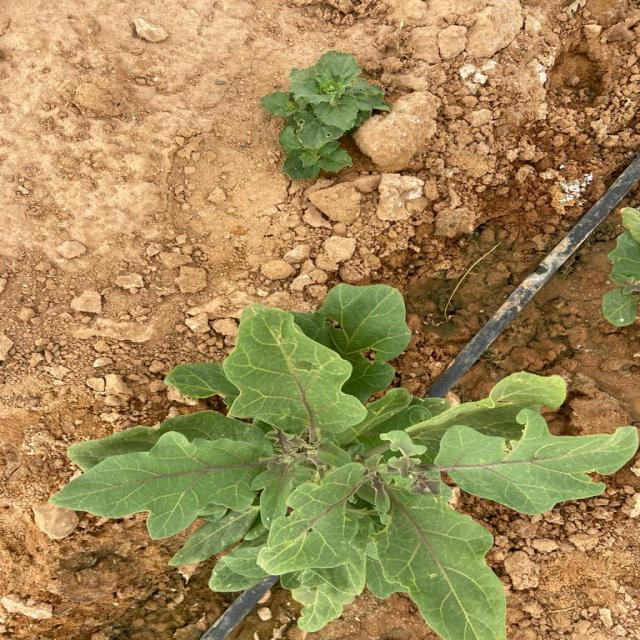eggplant: (51, 286, 638, 640)
weeds: (262, 50, 390, 180)
